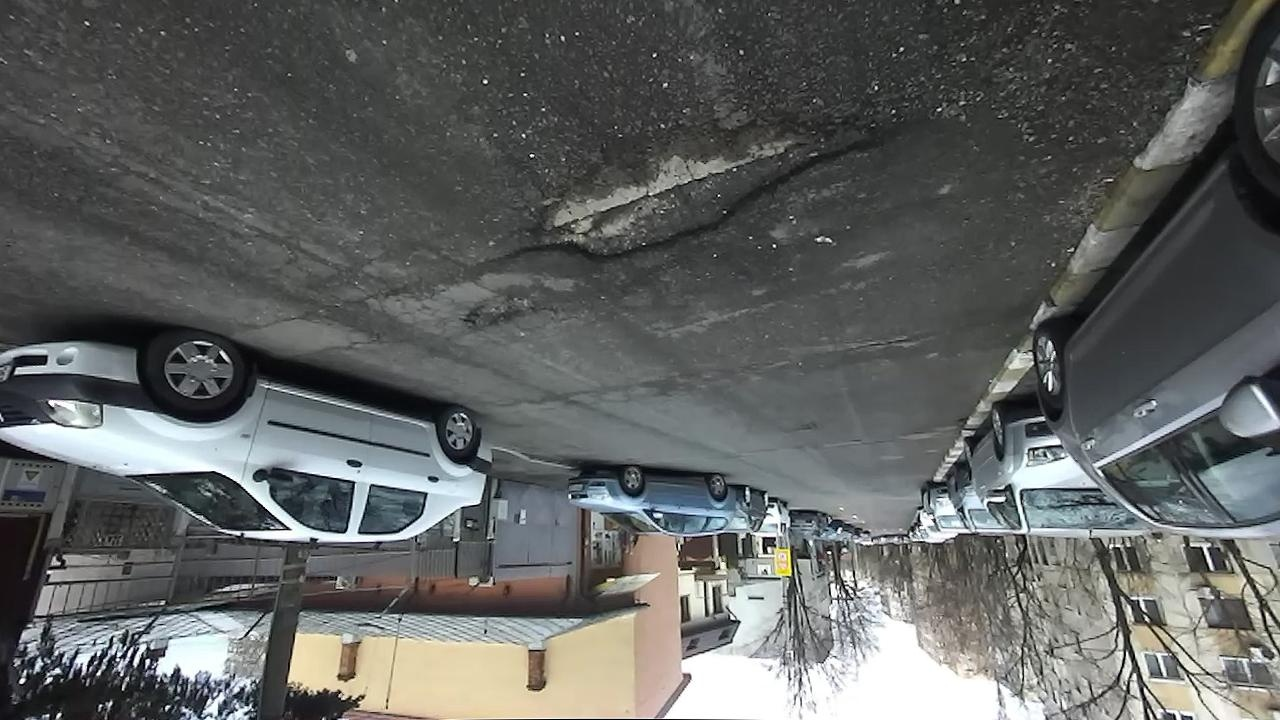pothole: (477, 106, 906, 272), (449, 289, 554, 340), (839, 330, 934, 358)
